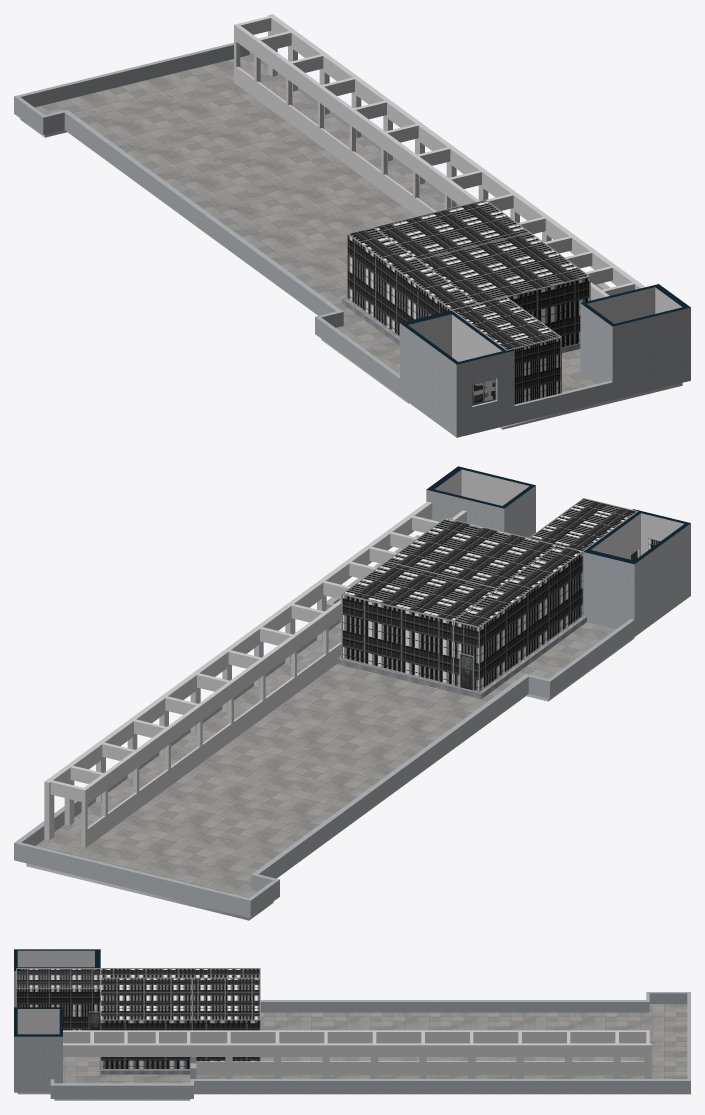
File: hkjls_hkjls_f06_out_T005.obj
3 views of the same model, one above another, from view 1: azimuth 30°, elevation 25°; view 2: azimuth 150°, elevation 25°; view 3: azimuth 270°, elevation 25° (orthographic). The views are drawn at different scales.
Parts seen in each view (by area): view 1: hkjls_hkjls_f06_out_002_H005, hkjls_hkjls_f06_out_006_H005, hkjls_hkjls_f06_out_001_H005, hkjls_hkjls_f06_out_009_H005, hkjls_hkjls_f06_out_008_H005, hkjls_hkjls_f06_out_010_H005, hkjls_hkjls_f06_out_007_H005; view 2: hkjls_hkjls_f06_out_002_H005, hkjls_hkjls_f06_out_001_H005, hkjls_hkjls_f06_out_006_H005, hkjls_hkjls_f06_out_009_H005, hkjls_hkjls_f06_out_008_H005, hkjls_hkjls_f06_out_010_H005, hkjls_hkjls_f06_out_003_H005, hkjls_hkjls_f06_out_007_H005; view 3: hkjls_hkjls_f06_out_001_H005, hkjls_hkjls_f06_out_006_H005, hkjls_hkjls_f06_out_002_H005, hkjls_hkjls_f06_out_009_H005, hkjls_hkjls_f06_out_010_H005, hkjls_hkjls_f06_out_008_H005, hkjls_hkjls_f06_out_007_H005, hkjls_hkjls_f06_out_003_H005.
Part boxes in pixels (x1,y1,x2,y2): hkjls_hkjls_f06_out_002_H005: (35,55,595,392); hkjls_hkjls_f06_out_006_H005: (14,42,690,437); hkjls_hkjls_f06_out_001_H005: (20,14,682,429); hkjls_hkjls_f06_out_009_H005: (375,201,589,404); hkjls_hkjls_f06_out_008_H005: (348,228,475,335); hkjls_hkjls_f06_out_010_H005: (347,199,590,393); hkjls_hkjls_f06_out_007_H005: (400,284,690,364); hkjls_hkjls_f06_out_002_H005: (36,622,615,897); hkjls_hkjls_f06_out_001_H005: (26,469,684,920); hkjls_hkjls_f06_out_006_H005: (14,485,690,917); hkjls_hkjls_f06_out_009_H005: (343,499,633,684); hkjls_hkjls_f06_out_008_H005: (454,546,582,690); hkjls_hkjls_f06_out_010_H005: (341,498,638,691); hkjls_hkjls_f06_out_003_H005: (337,616,586,698); hkjls_hkjls_f06_out_007_H005: (426,466,690,564); hkjls_hkjls_f06_out_001_H005: (17,950,651,1100); hkjls_hkjls_f06_out_006_H005: (14,971,690,1098); hkjls_hkjls_f06_out_002_H005: (63,1004,687,1083); hkjls_hkjls_f06_out_009_H005: (17,969,259,1068); hkjls_hkjls_f06_out_010_H005: (16,968,260,1069); hkjls_hkjls_f06_out_008_H005: (101,969,259,977); hkjls_hkjls_f06_out_007_H005: (14,949,100,1036); hkjls_hkjls_f06_out_003_H005: (100,1016,262,1074).
Size of the model in its own units: 1510 by 454 by 4604.
Materials: 12 (12 with a texture image).
